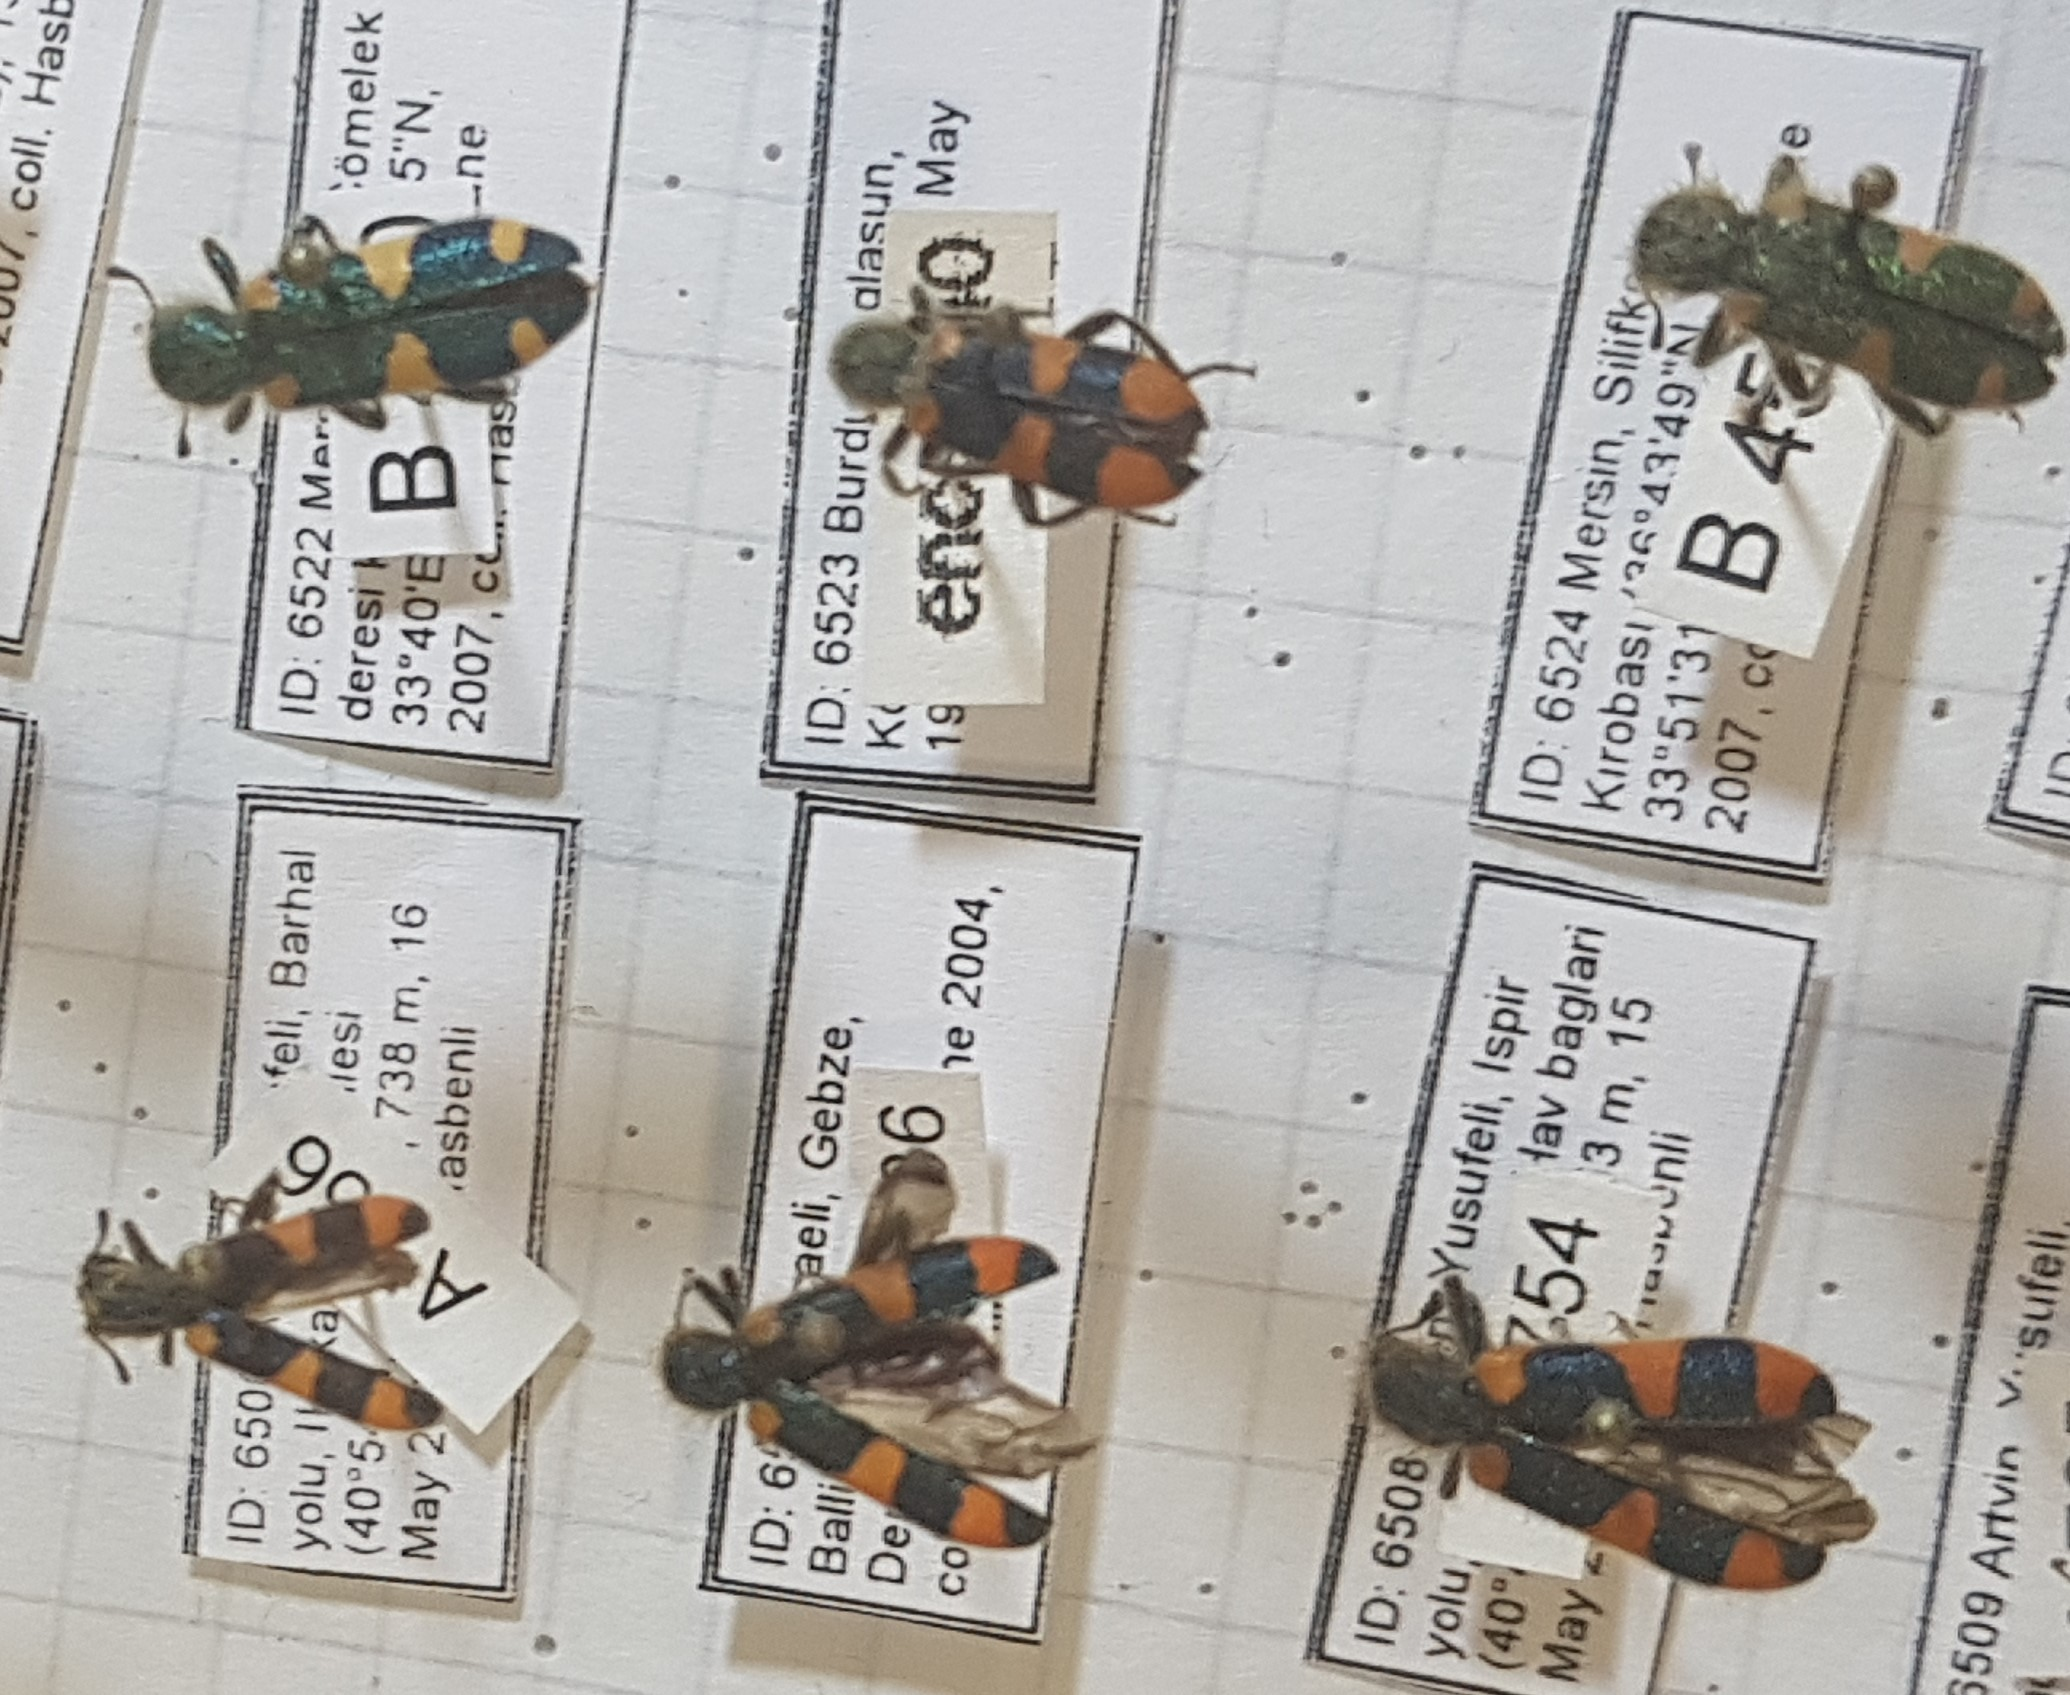trichodes_holtzi: (645, 1129, 1109, 1568), (1327, 1258, 1900, 1606), (113, 170, 626, 473), (818, 253, 1269, 548), (65, 1153, 464, 1439)
